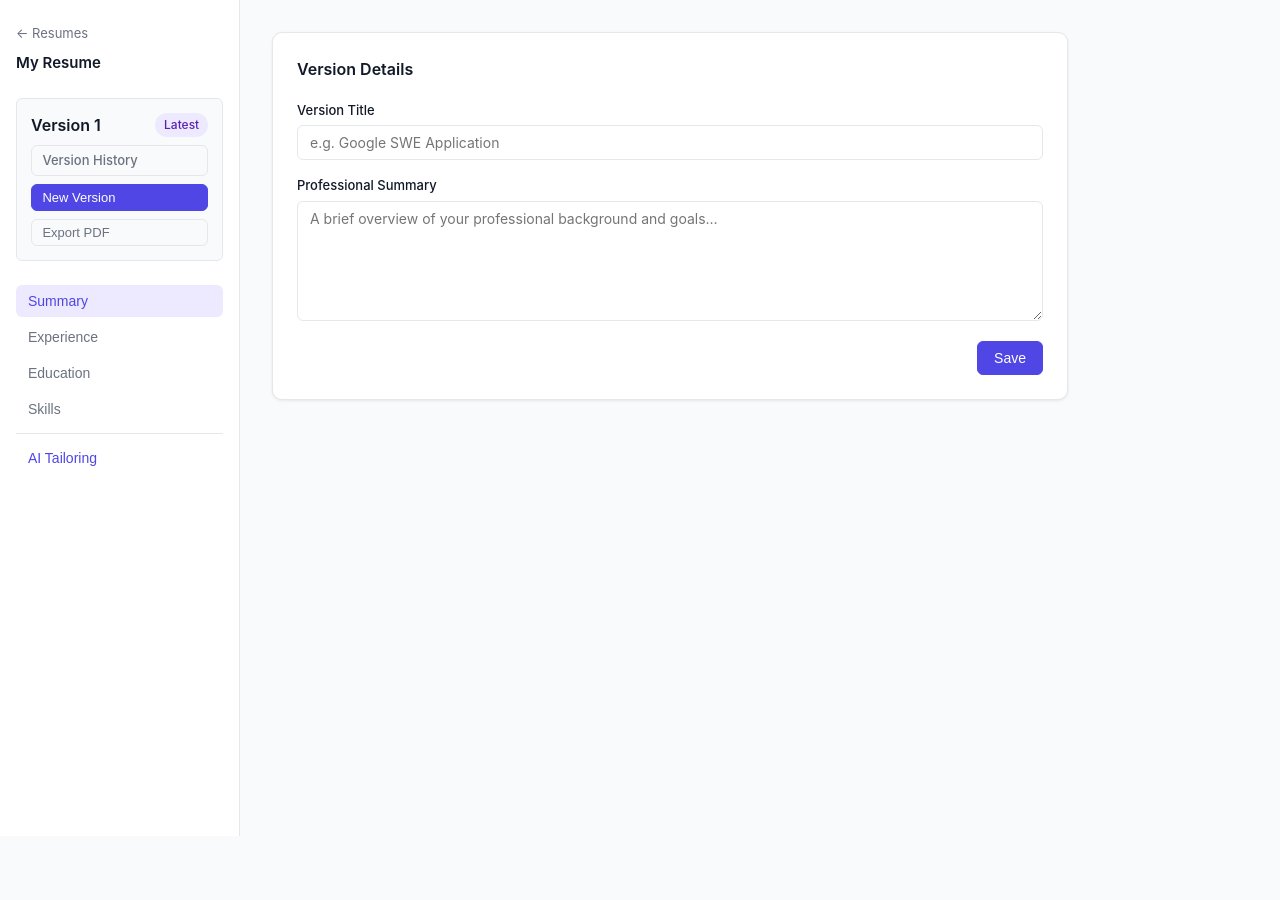
Scenario: ResumeEditorView › renders analysis results after analyze
Click the button with class "nav-item" showing "AI Tailoring" at (120, 458), box left=16, top=442, right=223, bottom=474
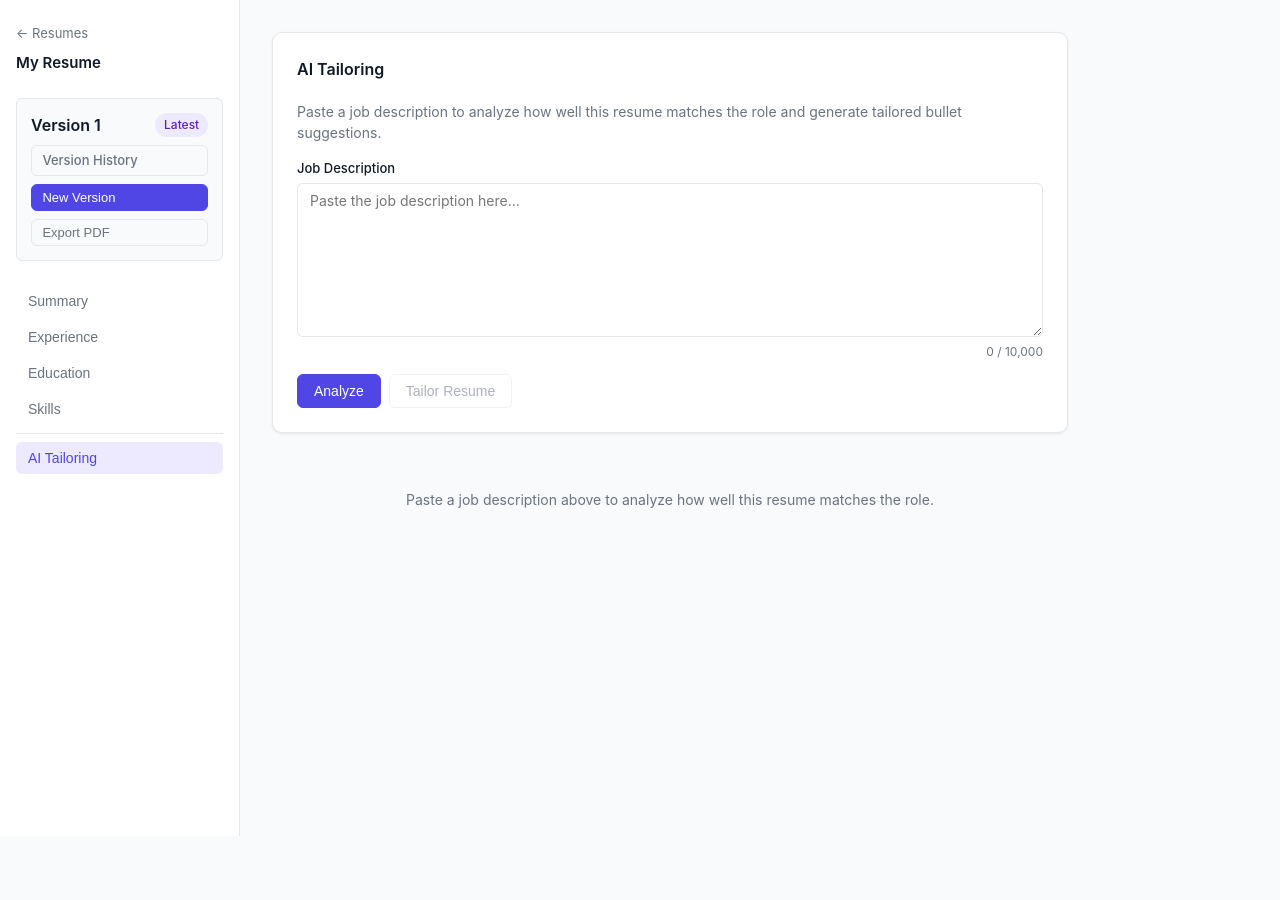
Type "Java Spring Boot backend engineer role." into the text box with id "job-description" at (670, 260), box left=297, top=183, right=1043, bottom=337
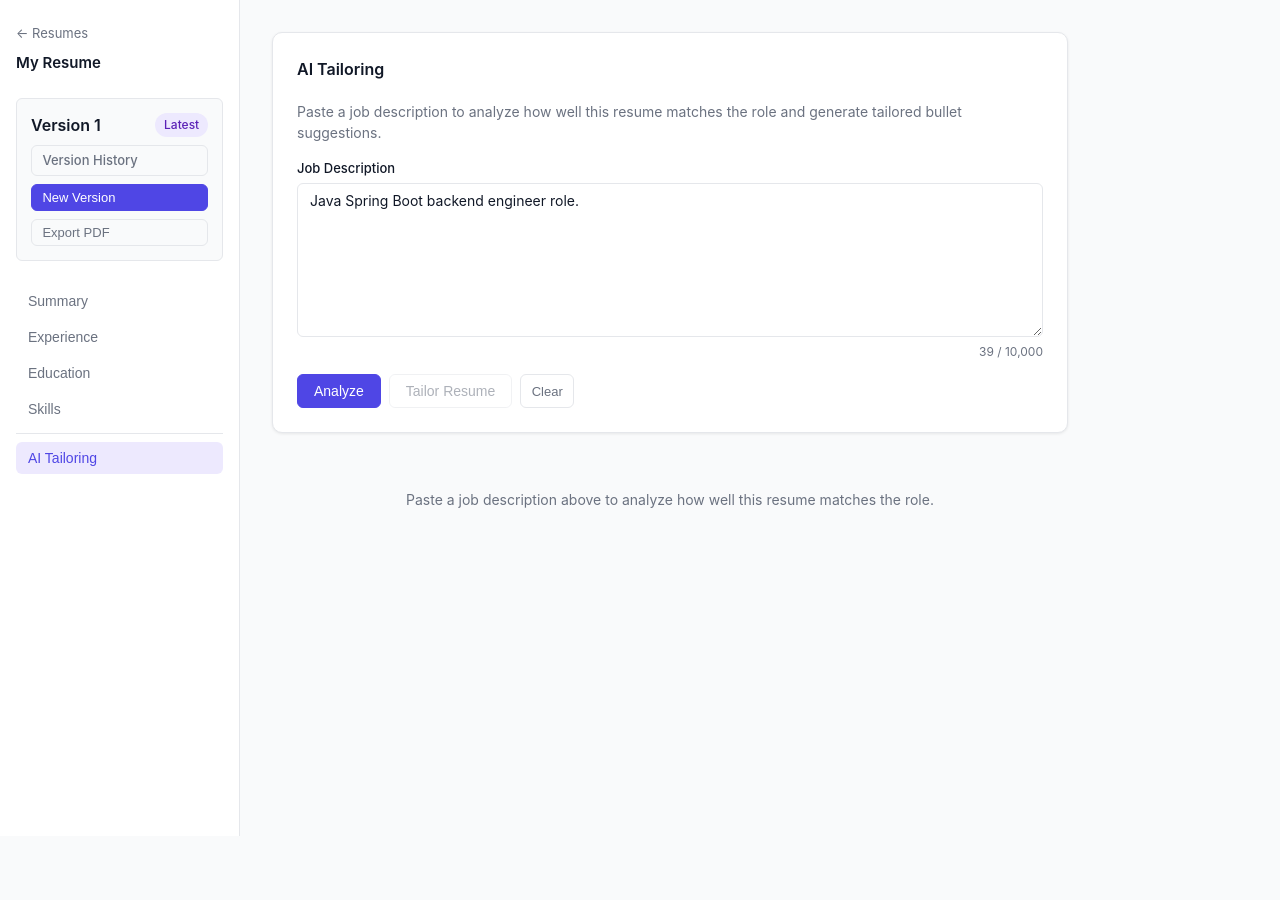
Click the button "Analyze" at (339, 391), box left=297, top=374, right=381, bottom=408
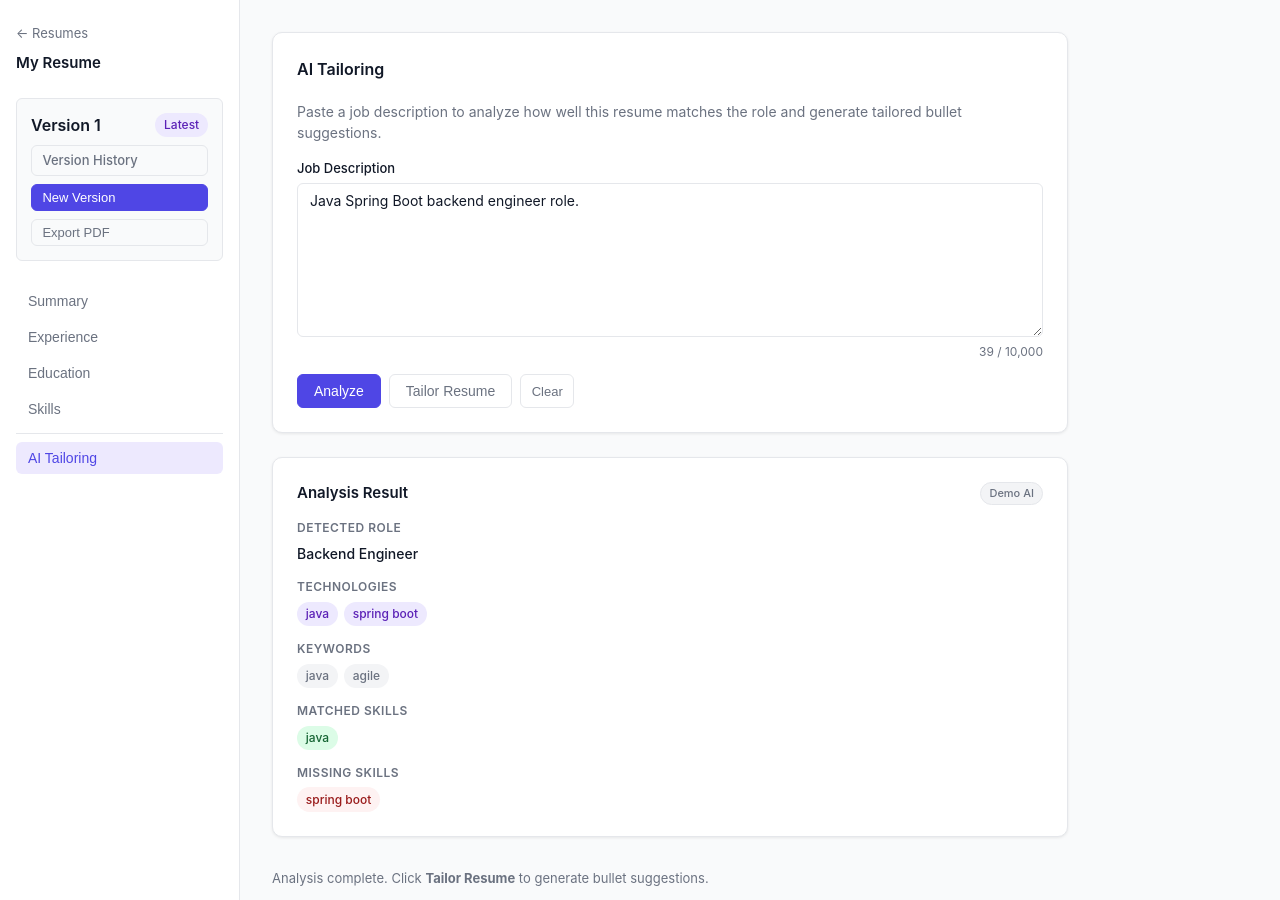
expect the text "Backend Engineer" is shown: met, box left=297, top=545, right=418, bottom=562
